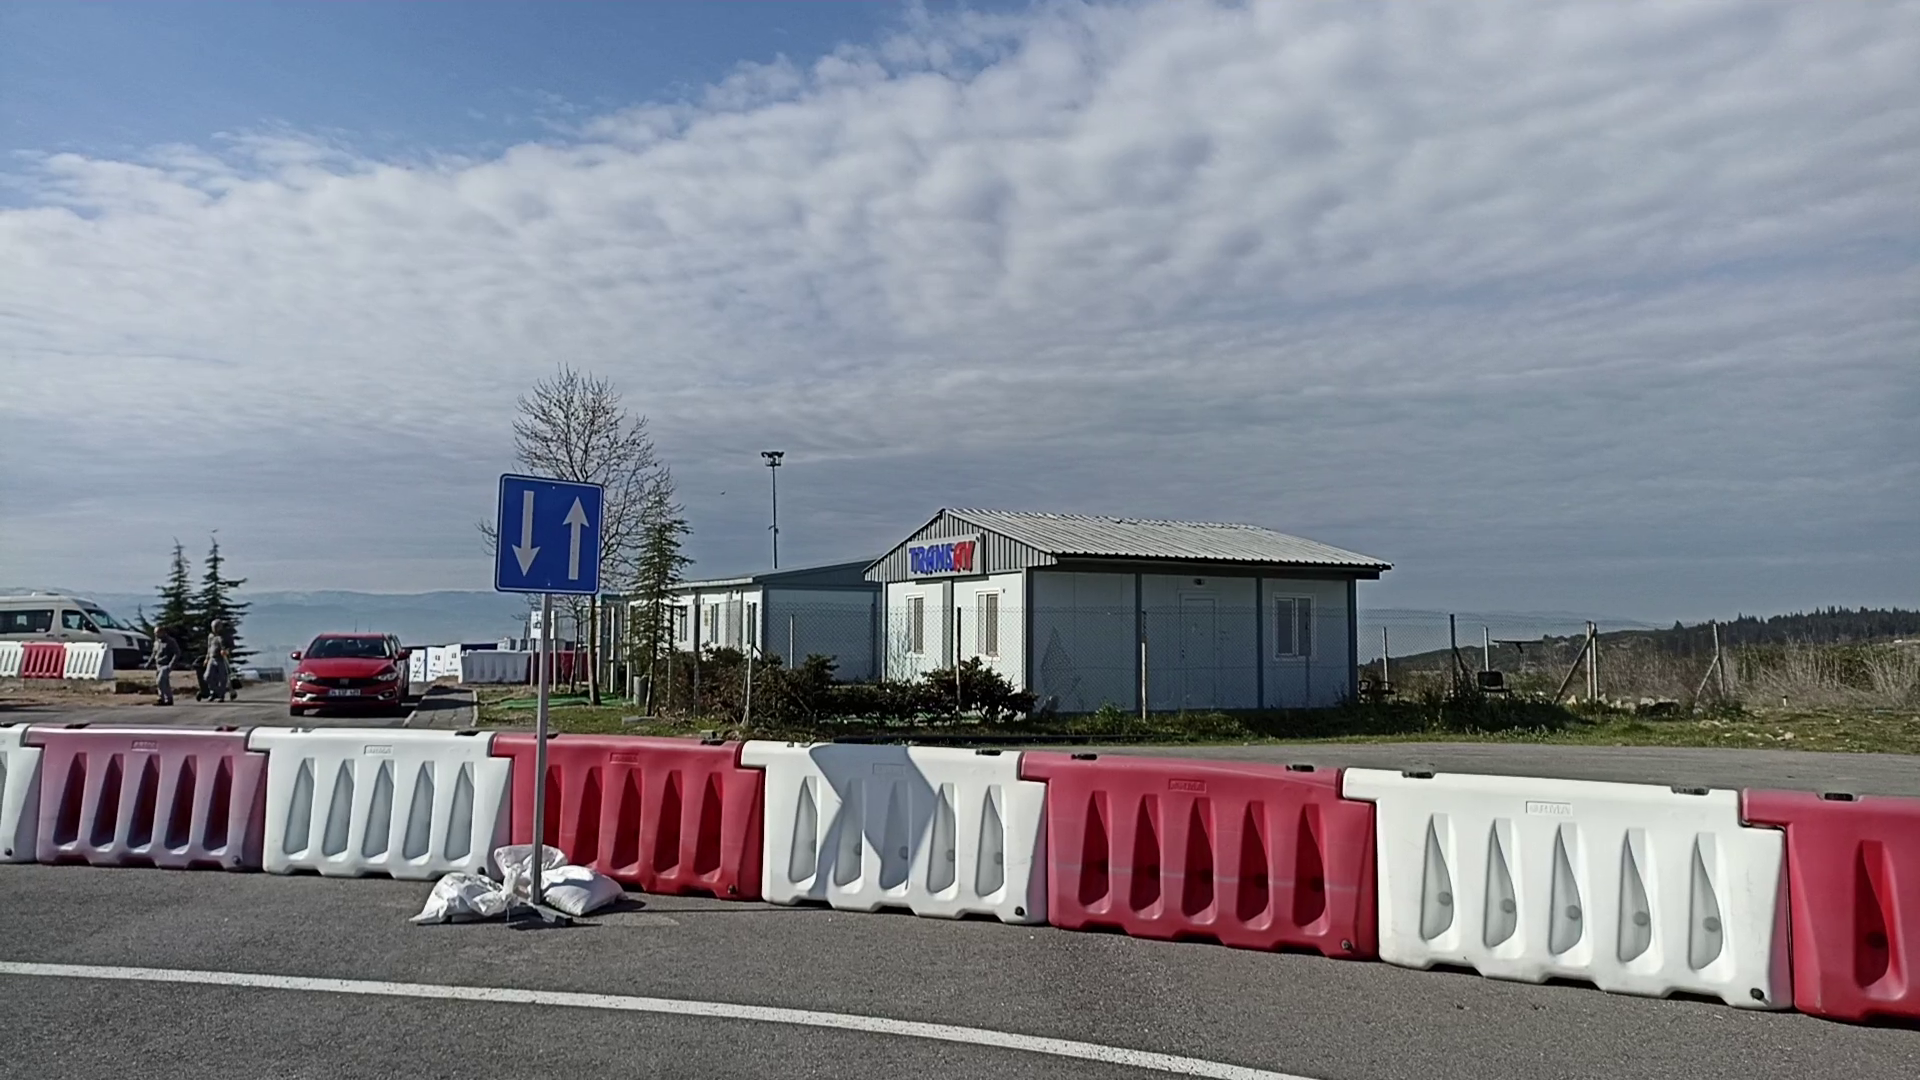oneway: (491, 469, 607, 597)
